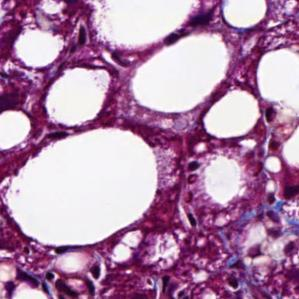inflammation: (34, 262, 116, 299), (215, 256, 251, 293), (263, 180, 299, 209)
